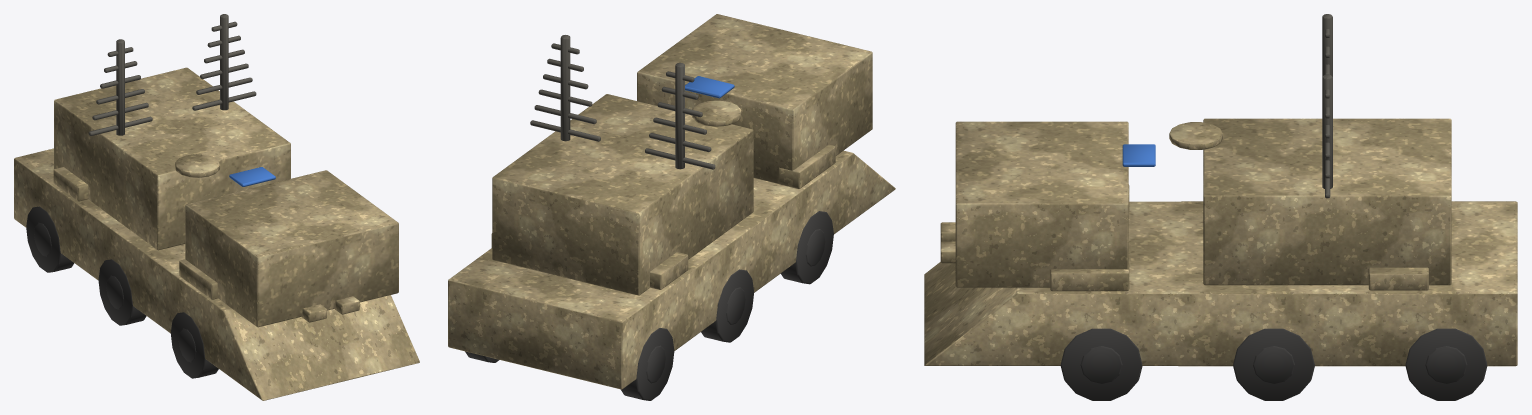
File: ewj_e4_us_jammer_LOD0.glb
The picture shows the model from 3 angles, left to right: view 1: azimuth 30°, elevation 25°; view 2: azimuth 150°, elevation 25°; view 3: azimuth 270°, elevation 25°; orthographic projection. The views are drawn at different scales.
Visible parts, largest first — view 1: ewj_e4_us_jammer_LOD0_body, ewj_e4_us_jammer_LOD0_track, ewj_e4_us_jammer_LOD0_deck, ewj_e4_us_jammer_LOD0_team; view 2: ewj_e4_us_jammer_LOD0_body, ewj_e4_us_jammer_LOD0_track, ewj_e4_us_jammer_LOD0_deck, ewj_e4_us_jammer_LOD0_team; view 3: ewj_e4_us_jammer_LOD0_body, ewj_e4_us_jammer_LOD0_track, ewj_e4_us_jammer_LOD0_deck, ewj_e4_us_jammer_LOD0_team.
Boxes of the visible parts, x1=… form: ewj_e4_us_jammer_LOD0_body: x1=14, y1=67, x2=419, y2=400; ewj_e4_us_jammer_LOD0_track: x1=26, y1=206, x2=218, y2=378; ewj_e4_us_jammer_LOD0_deck: x1=88, y1=14, x2=256, y2=135; ewj_e4_us_jammer_LOD0_team: x1=229, y1=167, x2=275, y2=186; ewj_e4_us_jammer_LOD0_body: x1=448, y1=14, x2=895, y2=389; ewj_e4_us_jammer_LOD0_track: x1=465, y1=211, x2=833, y2=400; ewj_e4_us_jammer_LOD0_deck: x1=530, y1=35, x2=715, y2=169; ewj_e4_us_jammer_LOD0_team: x1=685, y1=76, x2=734, y2=98; ewj_e4_us_jammer_LOD0_body: x1=924, y1=118, x2=1517, y2=366; ewj_e4_us_jammer_LOD0_track: x1=1060, y1=328, x2=1487, y2=400; ewj_e4_us_jammer_LOD0_deck: x1=1322, y1=14, x2=1332, y2=198; ewj_e4_us_jammer_LOD0_team: x1=1122, y1=144, x2=1155, y2=166.
Bounding box in the file's own units: 3.05 × 4.54 × 7.89.
Materials: 5 (1 with a texture image).
